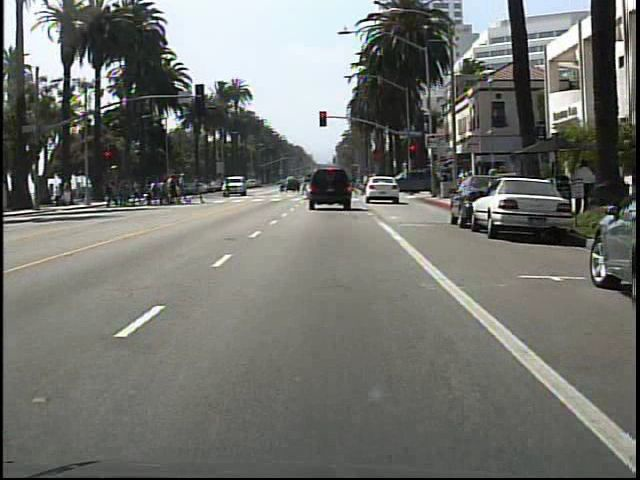person: (567, 157, 598, 220), (217, 173, 236, 202)
